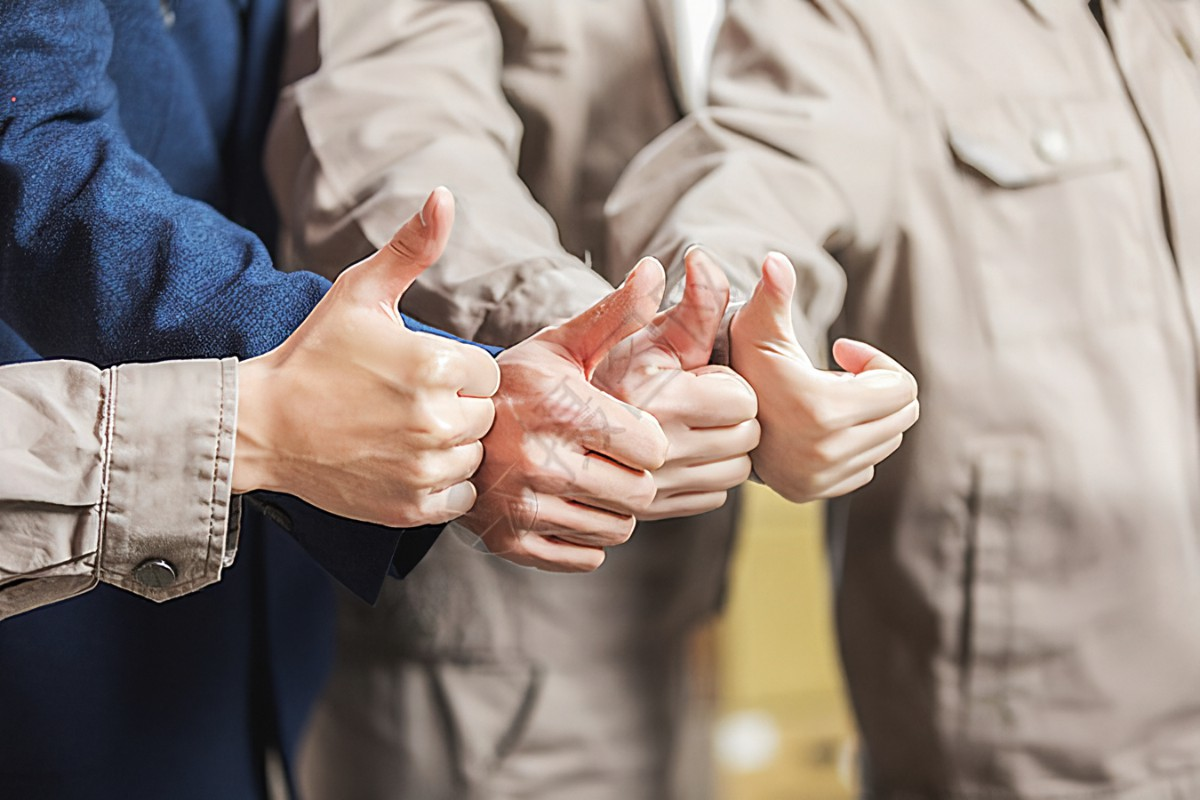no-phone: (238, 184, 494, 553), (479, 240, 680, 600), (720, 240, 923, 517), (593, 245, 767, 551)
